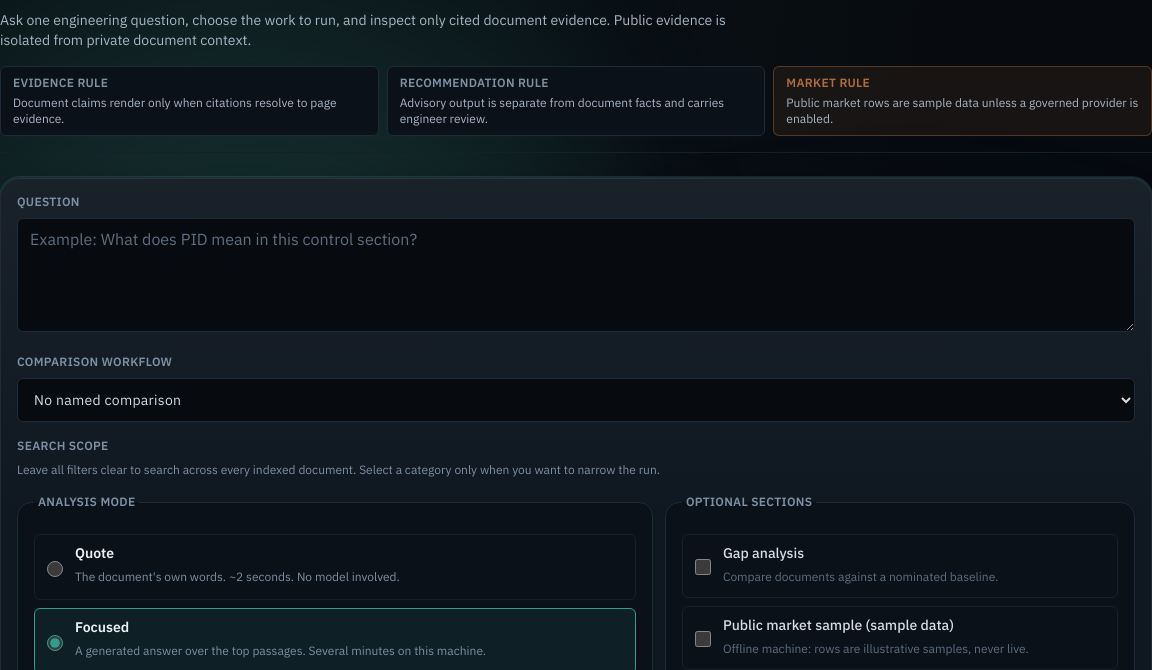
Test case: removed sentences: the disclosure is never empty › counts a text-bearing entry alongside a text-less one and shows only the former
The image size is (1152, 670).
Type "submittals" into the text box labelled "Question" at (576, 275), box [17, 218, 1135, 332]
(page scrolled)
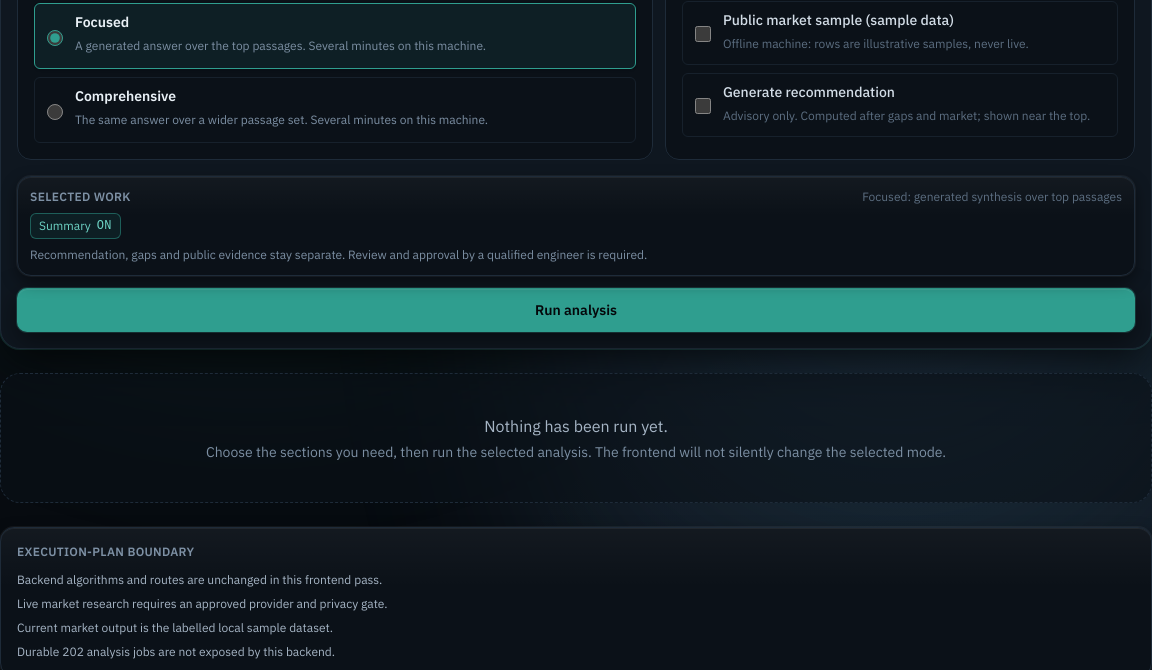
Click the button "Run analysis" at (576, 310), box [17, 288, 1135, 332]
(page scrolled)
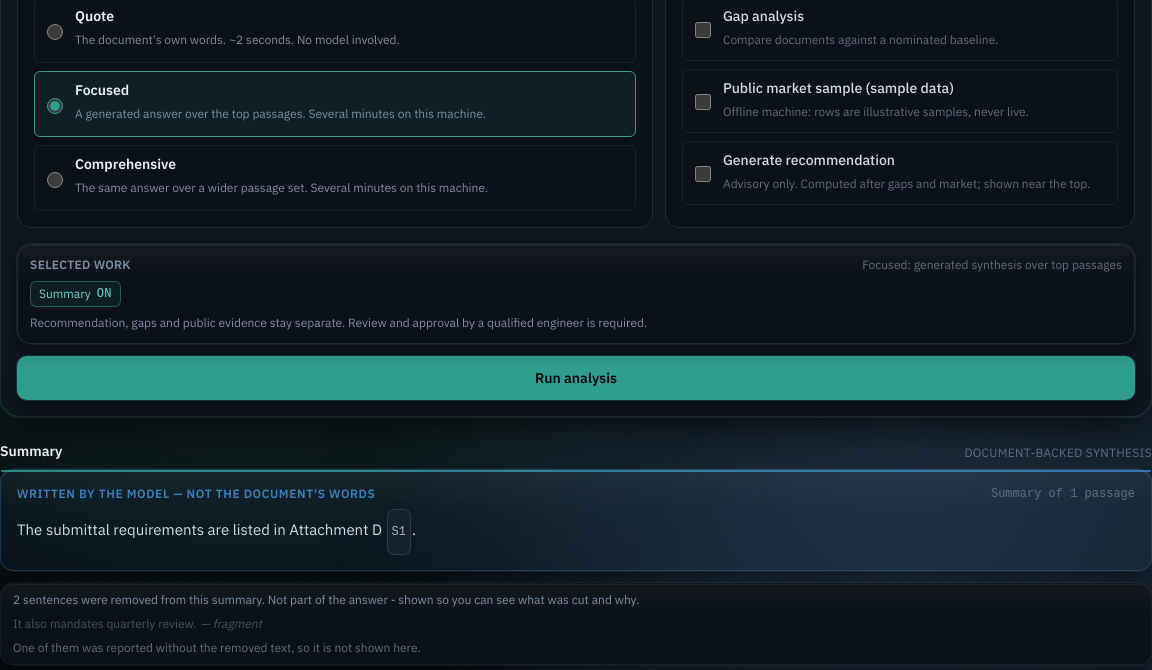
Result: the text "2 sentences were removed from this summary" is shown at [13, 592, 639, 607]
Result: the list item shows "It also mandates quarterly review." at [13, 616, 197, 631]
Result: the text "One of them was reported without the removed text" is shown at [13, 640, 421, 655]
